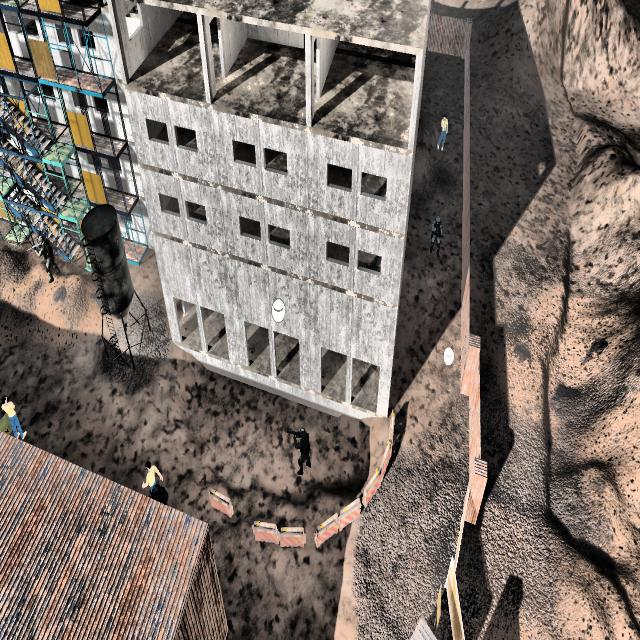bad: (287, 420, 317, 483), (32, 222, 57, 284), (428, 207, 446, 260), (150, 479, 169, 511)
good: (0, 390, 28, 441), (435, 107, 450, 157), (143, 449, 159, 485)
